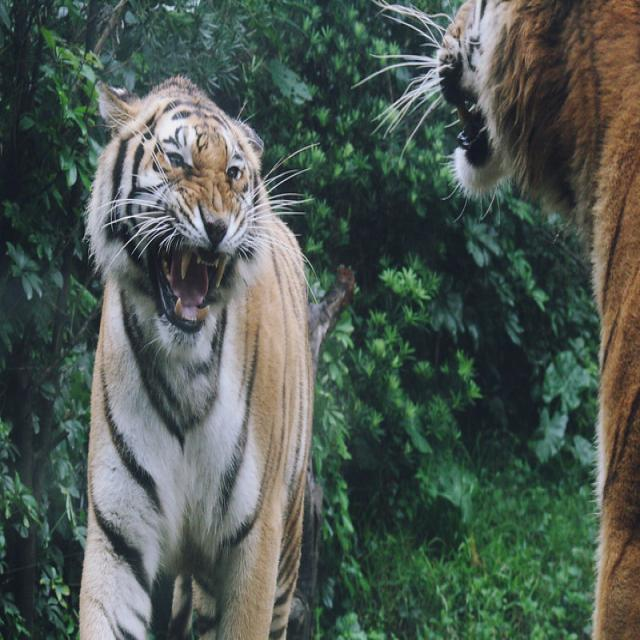Tiger: (74, 72, 313, 638), (434, 0, 640, 638)
